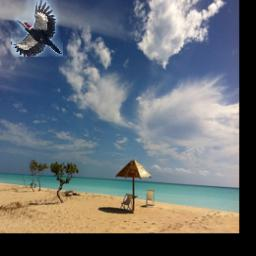Woodpecker: (10, 0, 62, 57)
